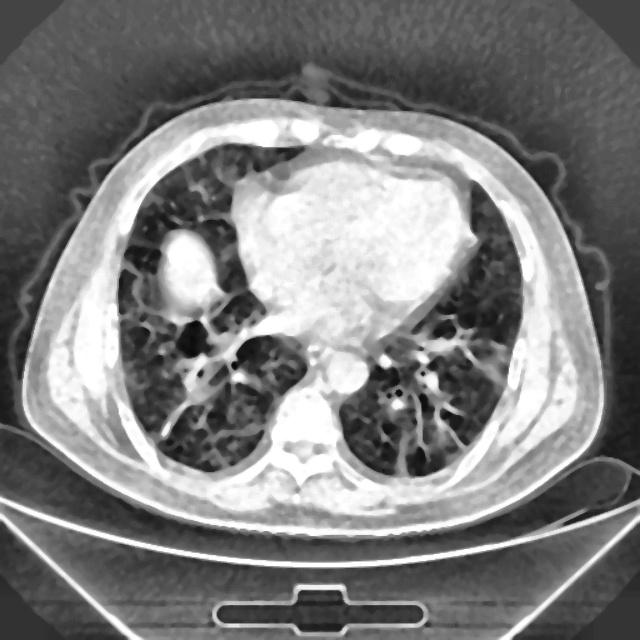covid: (22, 88, 607, 538)
